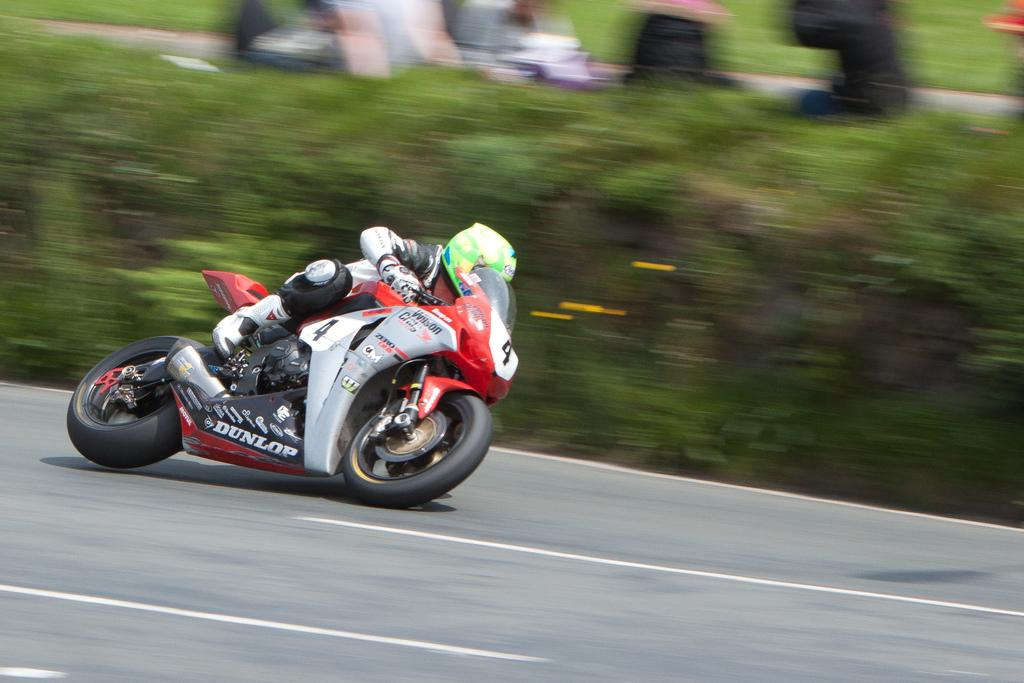helmet: (440, 222, 517, 313)
